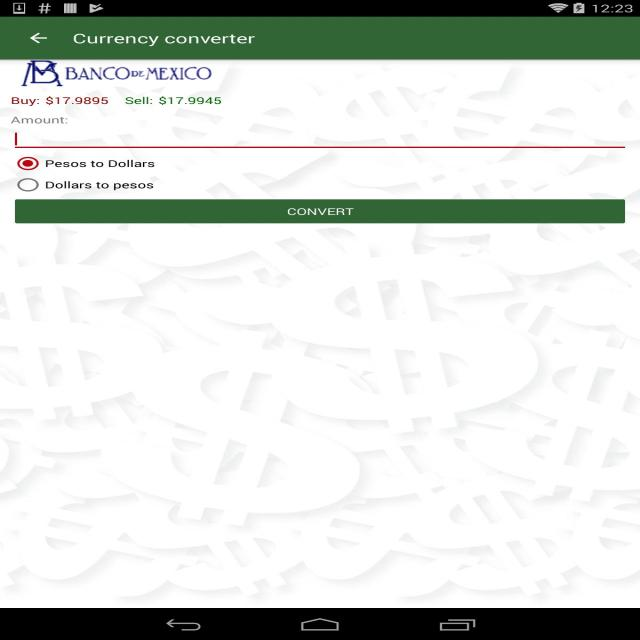button: (16, 199, 624, 223), (21, 27, 54, 52), (16, 177, 38, 192), (18, 157, 39, 170)
field: (10, 115, 628, 148)
heading: (70, 30, 258, 48)
image: (0, 60, 640, 608), (16, 60, 218, 90)
label: (44, 159, 156, 169), (44, 180, 154, 190), (10, 114, 72, 124)
text: (11, 95, 227, 106)
